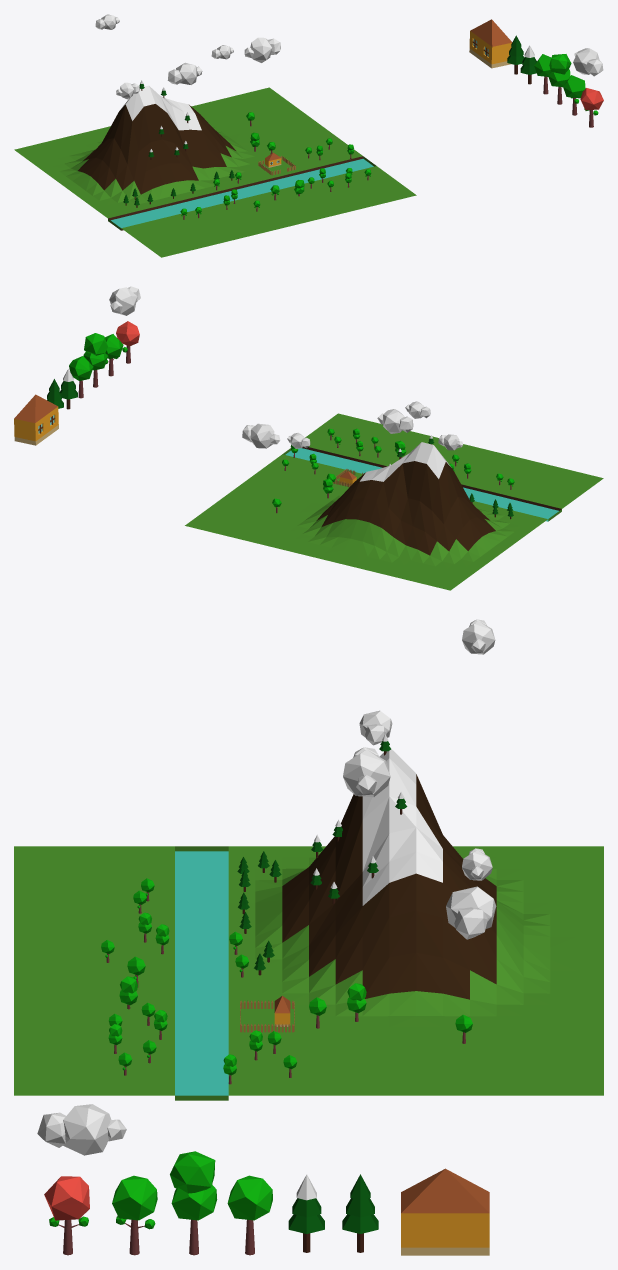
Rendered from terrain.fbx.
3 renders of one model, top to bottom at view 1: azimuth 30°, elevation 25°; view 2: azimuth 150°, elevation 25°; view 3: azimuth 270°, elevation 25°, orthographic. The views are drawn at different scales.
Visible parts, largest first — view 1: Plane, Cube, Icosphere.002, Icosphere.032, Icosphere.001, Icosphere.028, Icosphere.004, Icosphere.003, Icosphere, Cylinder, Cylinder.001; view 2: Plane, Cube, Icosphere.002, Icosphere.032, Icosphere.001, Icosphere.028, Icosphere.004, Icosphere, Icosphere.003, Cylinder.001; view 3: Plane, Cube, Icosphere.001, Icosphere.002, Icosphere.004, Icosphere.003, Icosphere.032, Icosphere, Icosphere.028, Cylinder.001, Cylinder, Icosphere.029 (+1 smaller).
Part boxes in pixels (x1,y1,x2,y2): Plane: (14, 85, 416, 257); Cube: (469, 19, 512, 68); Icosphere.002: (548, 54, 571, 104); Icosphere.032: (244, 37, 280, 62); Icosphere.001: (573, 48, 603, 76); Icosphere.028: (167, 62, 202, 84); Icosphere.004: (580, 88, 603, 127); Icosphere.003: (563, 75, 585, 115); Icosphere: (534, 54, 551, 94); Cylinder: (507, 35, 524, 74); Cylinder.001: (520, 45, 536, 84); Plane: (185, 413, 603, 590); Cube: (14, 394, 58, 445); Icosphere.002: (83, 333, 107, 387); Icosphere.032: (242, 423, 280, 448); Icosphere.001: (109, 286, 140, 315); Icosphere.028: (377, 409, 413, 433); Icosphere.004: (116, 321, 139, 363); Icosphere: (69, 356, 93, 398); Icosphere.003: (105, 334, 123, 376); Cylinder.001: (60, 369, 77, 409); Plane: (14, 749, 603, 1100); Cube: (401, 1168, 489, 1255); Icosphere.001: (37, 1104, 126, 1155); Icosphere.002: (170, 1151, 217, 1255); Icosphere.004: (44, 1176, 89, 1255); Icosphere.003: (112, 1175, 157, 1255); Icosphere.032: (446, 886, 496, 939); Icosphere: (227, 1175, 272, 1255); Icosphere.028: (343, 747, 390, 797); Cylinder.001: (288, 1174, 324, 1252); Cylinder: (342, 1174, 378, 1252); Icosphere.029: (462, 619, 495, 654).
Size of the model in its own units: 1224 by 379 by 687.
